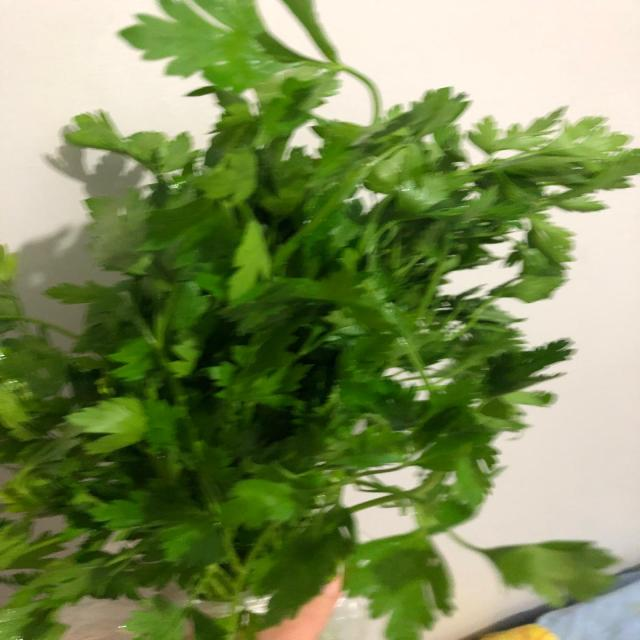parsley: (5, 4, 628, 640)
